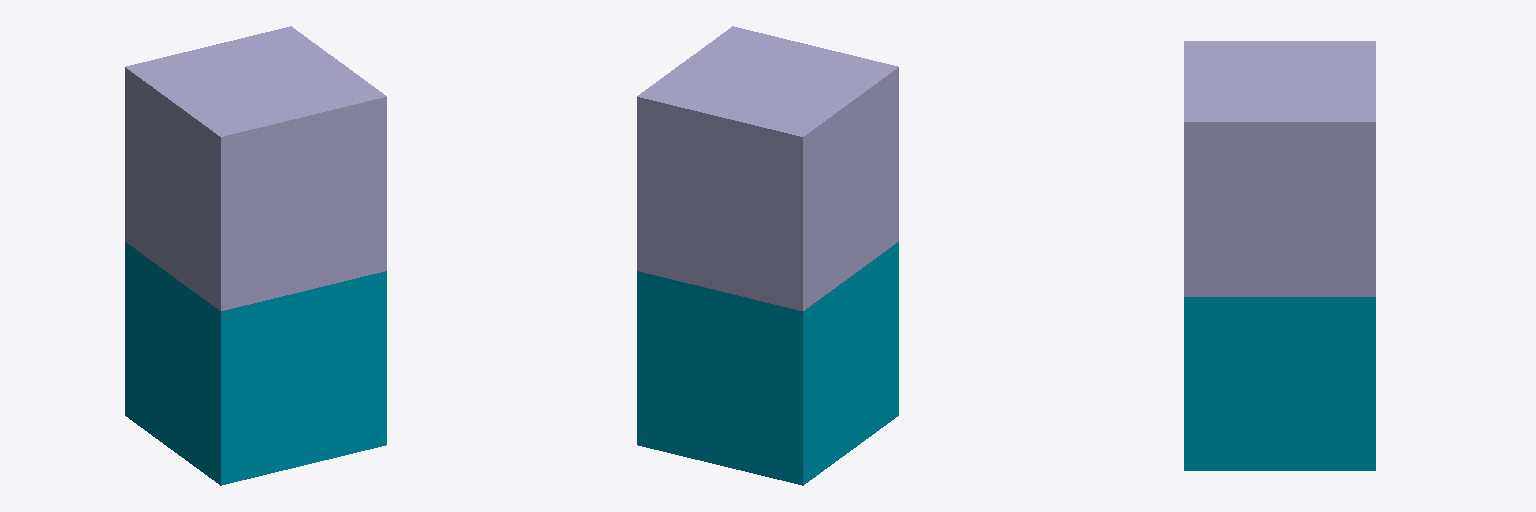
3 renders of one model, left to right at view 1: azimuth 30°, elevation 25°; view 2: azimuth 150°, elevation 25°; view 3: azimuth 270°, elevation 25°, orthographic.
Visible parts, largest first — view 1: object 1; view 2: object 1; view 3: object 1.
Boxes of the visible parts, box(x1,y1,x2,y2) form: object 1: box(125, 26, 386, 485); object 1: box(637, 26, 898, 485); object 1: box(1184, 41, 1375, 470).
Bounding box in the file's own units: 0.1 × 0.2 × 0.1.
Materials: 1 (1 with a texture image).